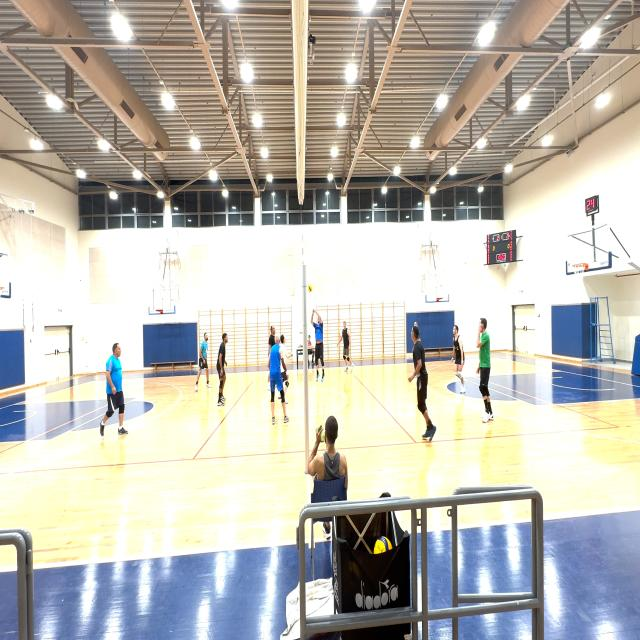volleyball: (373, 536, 392, 555), (308, 284, 312, 292)
